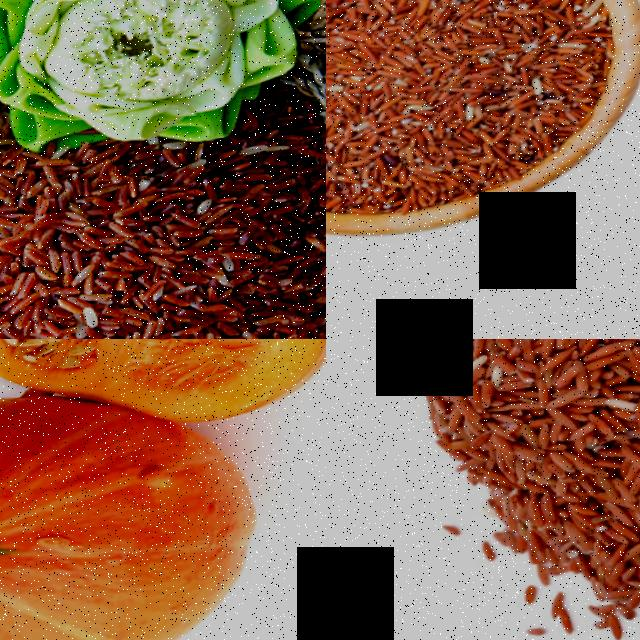pumpkin: (0, 396, 270, 640), (0, 339, 326, 458)
red rice: (0, 118, 326, 339), (326, 0, 617, 234), (409, 339, 640, 605)
